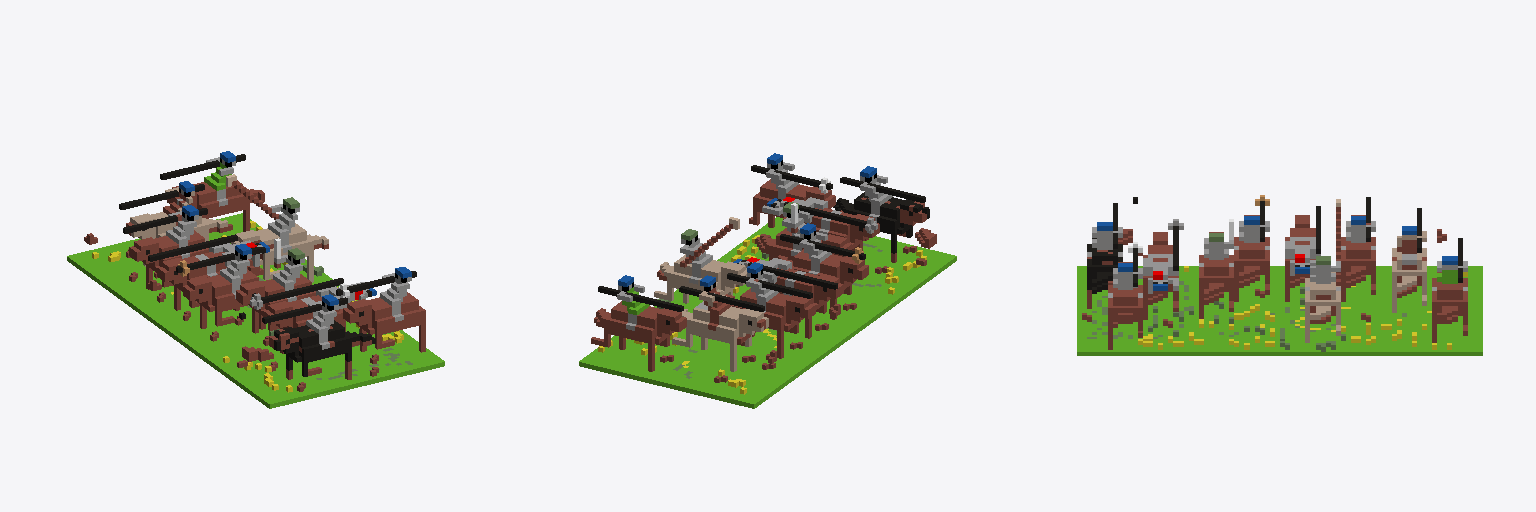
3 renders of one model, left to right at view 1: azimuth 30°, elevation 25°; view 2: azimuth 150°, elevation 25°; view 3: azimuth 270°, elevation 25°, orthographic.
Parts seen in each view (by area): view 1: object 1; view 2: object 1; view 3: object 1.
Boxes of the visible parts, x1=… form: object 1: x1=67, y1=151, x2=444, y2=408; object 1: x1=579, y1=153, x2=956, y2=408; object 1: x1=1077, y1=195, x2=1482, y2=355.
Bounding box in the file's own units: 4 × 2.5 × 8.
Materials: 1 (1 with a texture image).